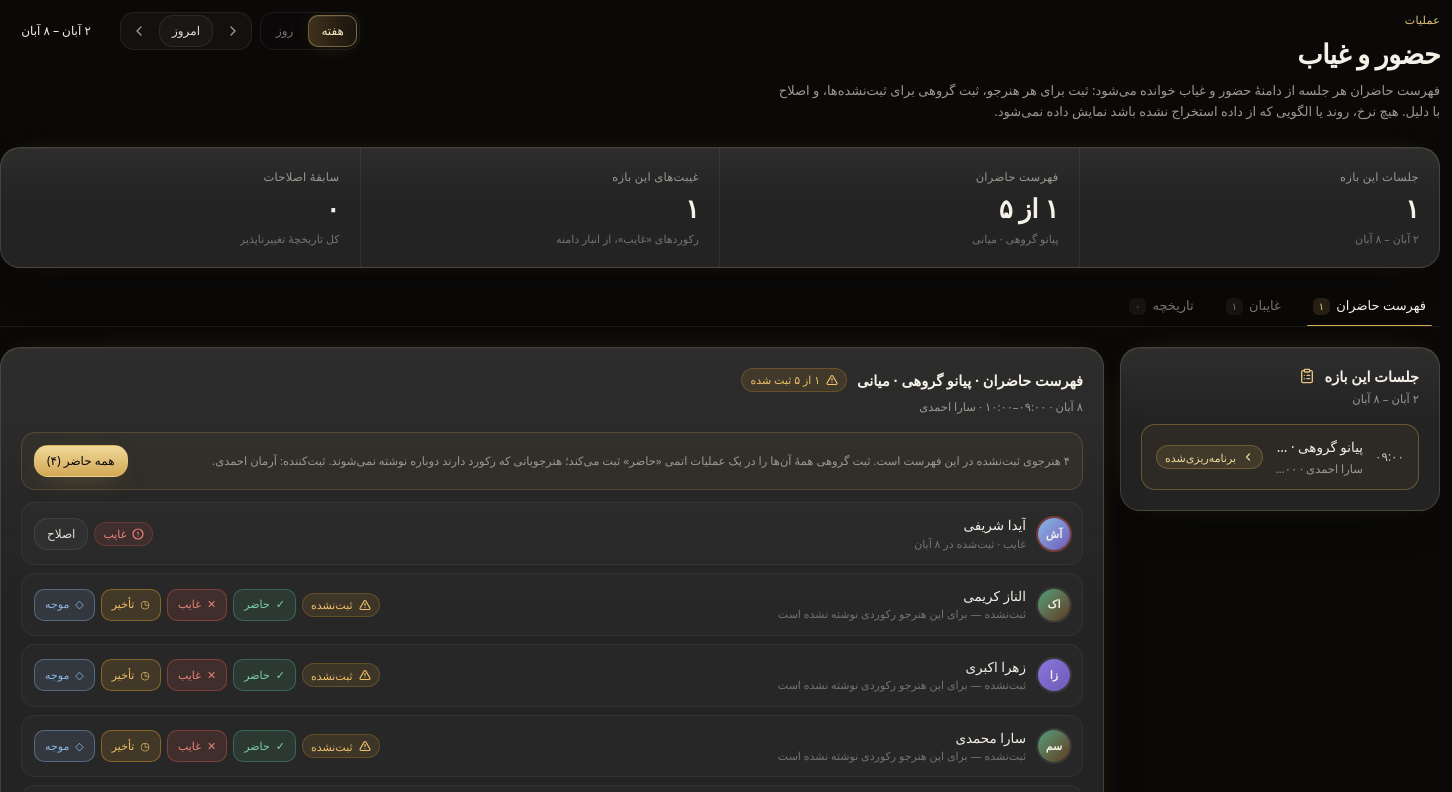
Scenario: recording through the real repository › writes every unmarked student in one bulk act, and nobody who is already marked
Click the button "همه حاضر (۴)" at (81, 461), box [34, 445, 128, 477]
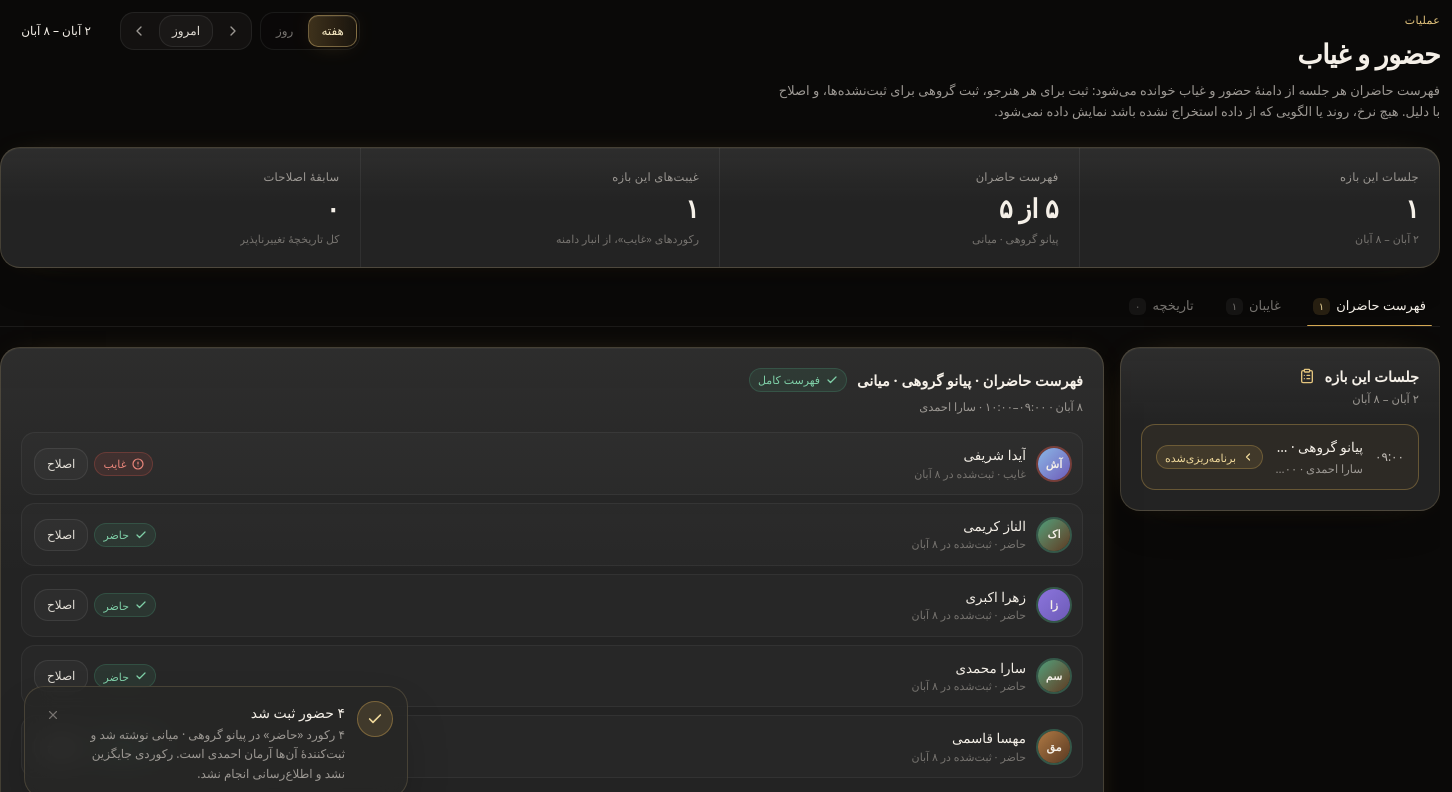
Expected: the button "همه حاضر" is gone
